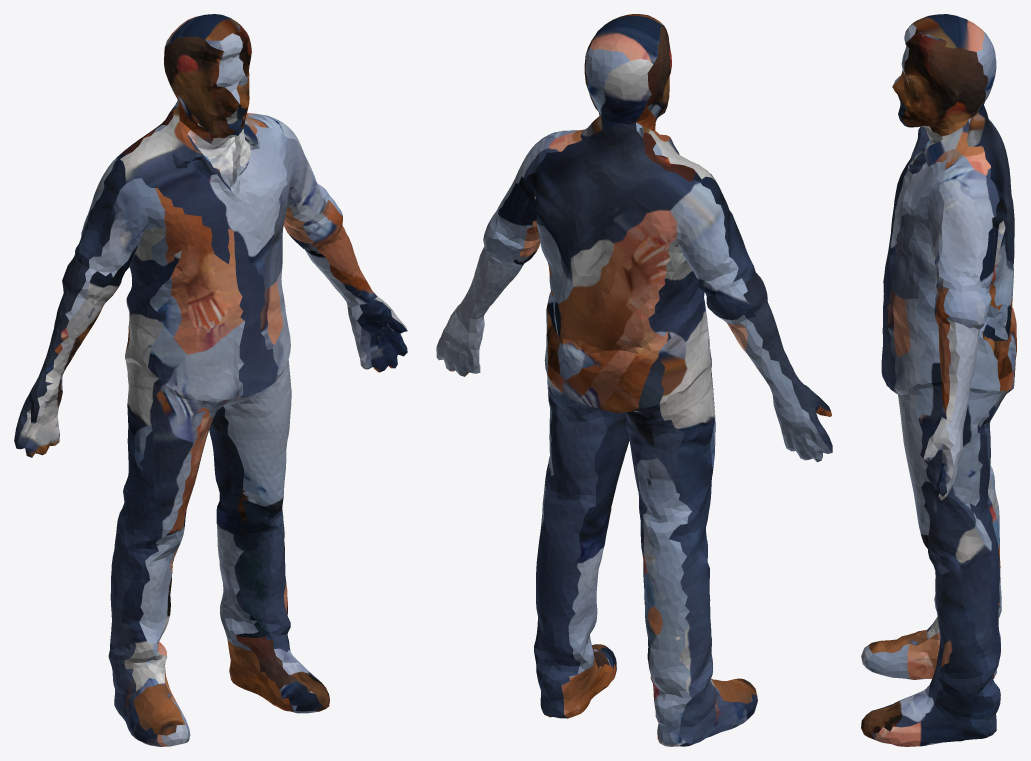
Rendered from professor.glb.
The picture shows the model from 3 angles, left to right: view 1: azimuth 30°, elevation 25°; view 2: azimuth 150°, elevation 25°; view 3: azimuth 270°, elevation 25°; orthographic projection.
Visible parts, largest first — view 1: geometry_0; view 2: geometry_0; view 3: geometry_0.
Boxes of the visible parts, x1=… form: geometry_0: x1=14, y1=14, x2=407, y2=746; geometry_0: x1=436, y1=14, x2=832, y2=746; geometry_0: x1=861, y1=14, x2=1016, y2=746.
Bounding box in the file's own units: 1.19 × 1.99 × 0.409.
Materials: 1 (1 with a texture image).
